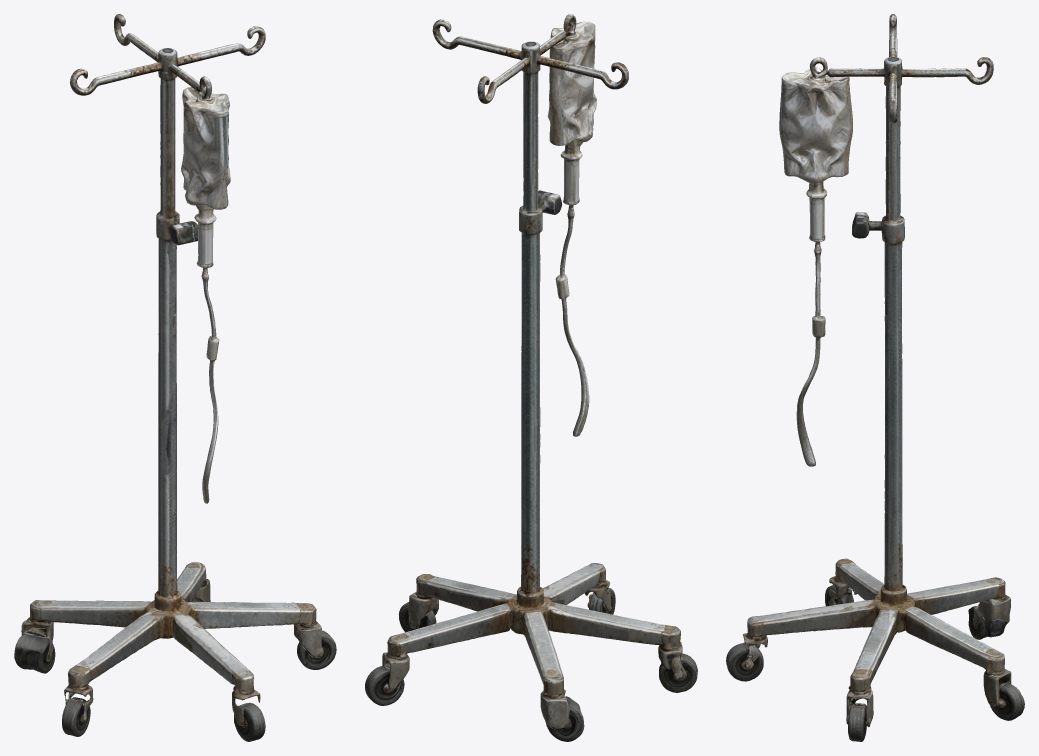
File: IVStand.fbx
The picture shows the model from 3 angles, left to right: view 1: azimuth 30°, elevation 25°; view 2: azimuth 150°, elevation 25°; view 3: azimuth 270°, elevation 25°; orthographic projection. The views are drawn at different scales.
Visible parts, largest first — view 1: texture_mapping; view 2: texture_mapping; view 3: texture_mapping.
Boxes of the visible parts, left/top/right/bottom form: texture_mapping: left=14, top=14, right=336, bottom=741; texture_mapping: left=365, top=14, right=697, bottom=741; texture_mapping: left=726, top=14, right=1024, bottom=741.
Size of the model in its own units: 0.4631 by 0.4336 by 0.9955.
1 material, 1 textured.
